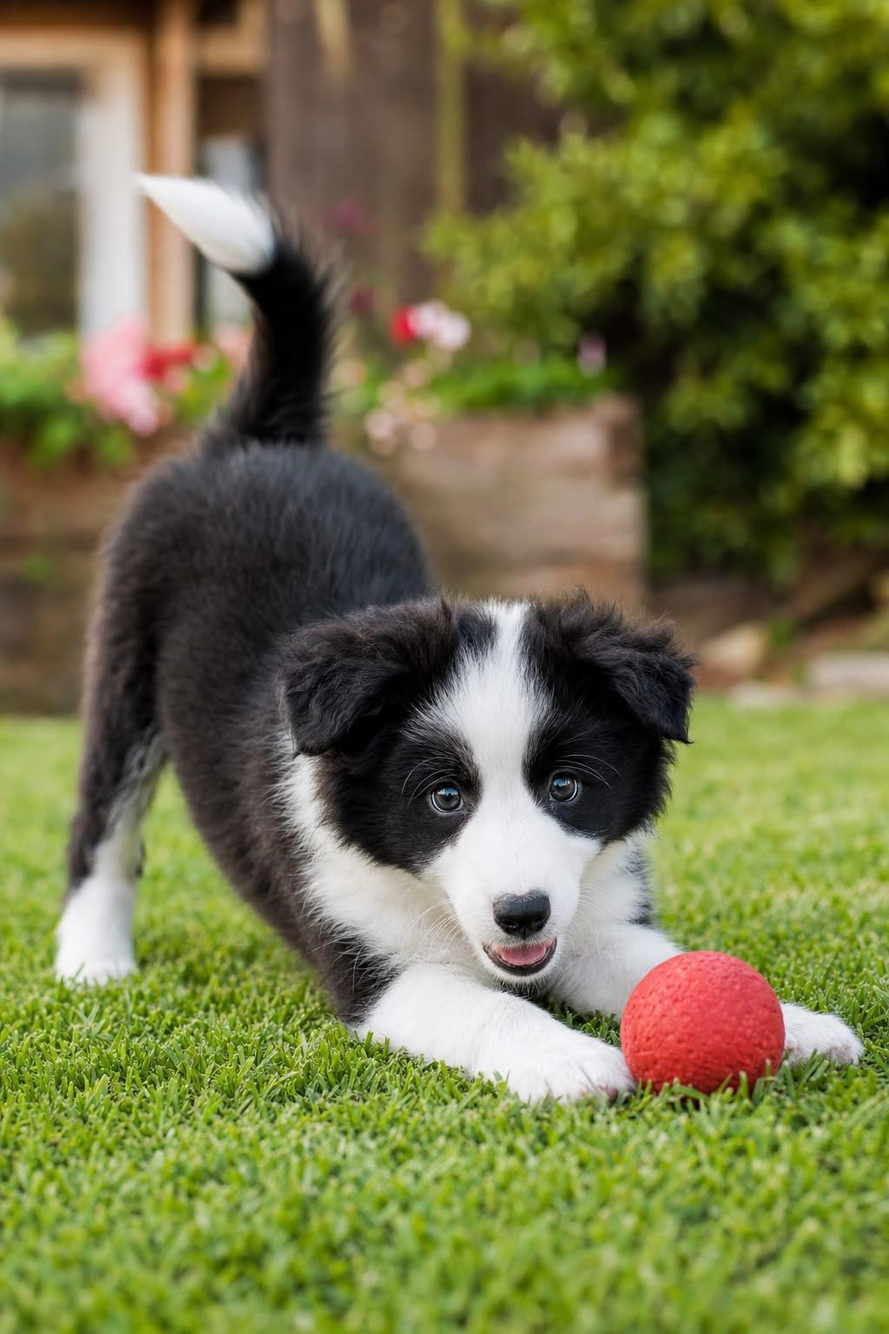dog: (57, 178, 692, 1099)
